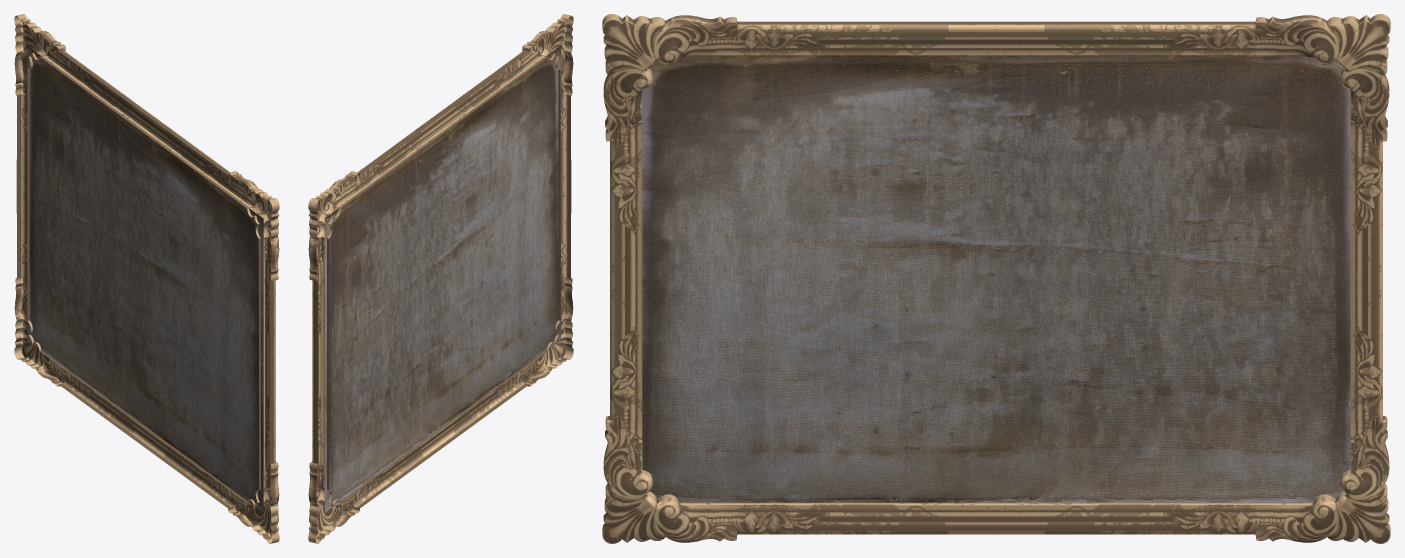
The model's file is MSH_Deco_PictureFrame.FBX.
The picture shows the model from 3 angles, left to right: view 1: azimuth 30°, elevation 25°; view 2: azimuth 150°, elevation 25°; view 3: azimuth 270°, elevation 25°; orthographic projection. The views are drawn at different scales.
Visible parts, largest first — view 1: MSH_Deco_PictureFrame; view 2: MSH_Deco_PictureFrame; view 3: MSH_Deco_PictureFrame.
Part boxes in pixels (x1,y1,x2,y2): MSH_Deco_PictureFrame: (14,14,279,543); MSH_Deco_PictureFrame: (308,14,573,543); MSH_Deco_PictureFrame: (602,14,1390,543).
Size of what is drawn, in the model's own units: 5.69 by 226 by 166.
